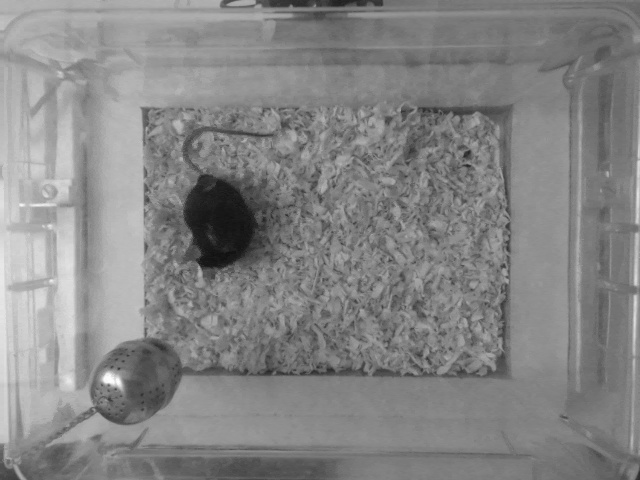mice: (177, 123, 280, 275)
